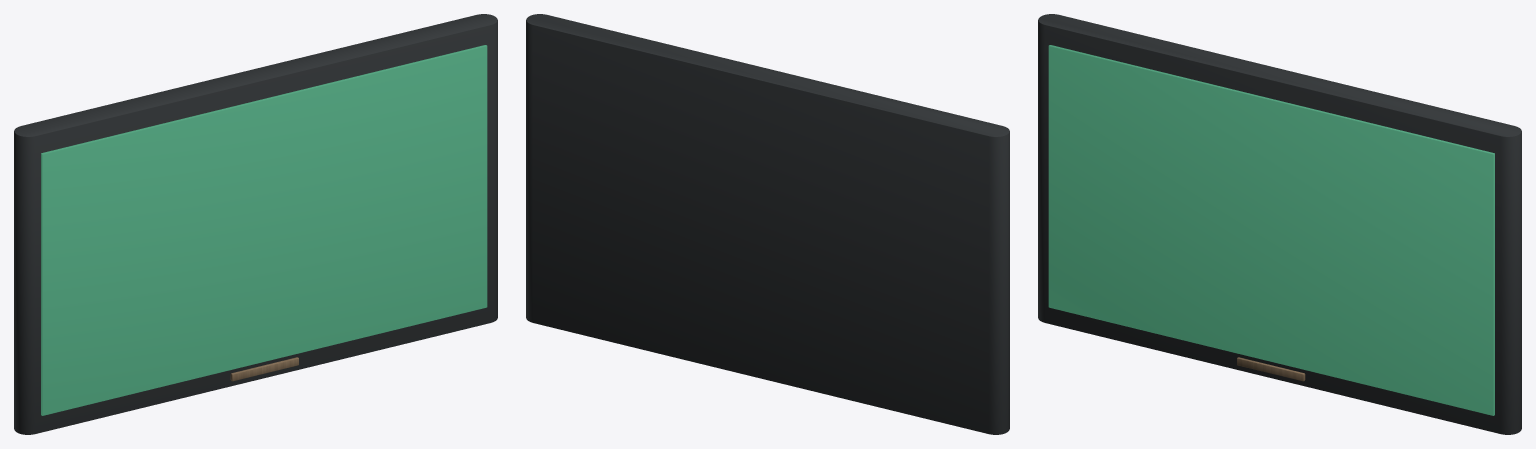
The model's file is display_tv_premium.glb.
The picture shows the model from 3 angles, left to right: view 1: azimuth 30°, elevation 25°; view 2: azimuth 150°, elevation 25°; view 3: azimuth 330°, elevation 25°; orthographic projection.
Visible parts, largest first — view 1: DisplayTV_Screen, DisplayTV_Back, DisplayTV_CommercialBadge; view 2: DisplayTV_Back; view 3: DisplayTV_Screen, DisplayTV_Back, DisplayTV_CommercialBadge.
Boxes of the visible parts, box(x1,y1,x2,y2) form: DisplayTV_Screen: box(41, 45, 487, 415); DisplayTV_Back: box(14, 14, 497, 434); DisplayTV_CommercialBadge: box(230, 357, 298, 381); DisplayTV_Back: box(526, 14, 1009, 434); DisplayTV_Screen: box(1048, 45, 1494, 415); DisplayTV_Back: box(1038, 14, 1521, 434); DisplayTV_CommercialBadge: box(1237, 357, 1305, 381).
Size of what is drawn, in the model's own units: 1.28 by 0.76 by 0.0778.
Materials: 3 (1 with a texture image).
